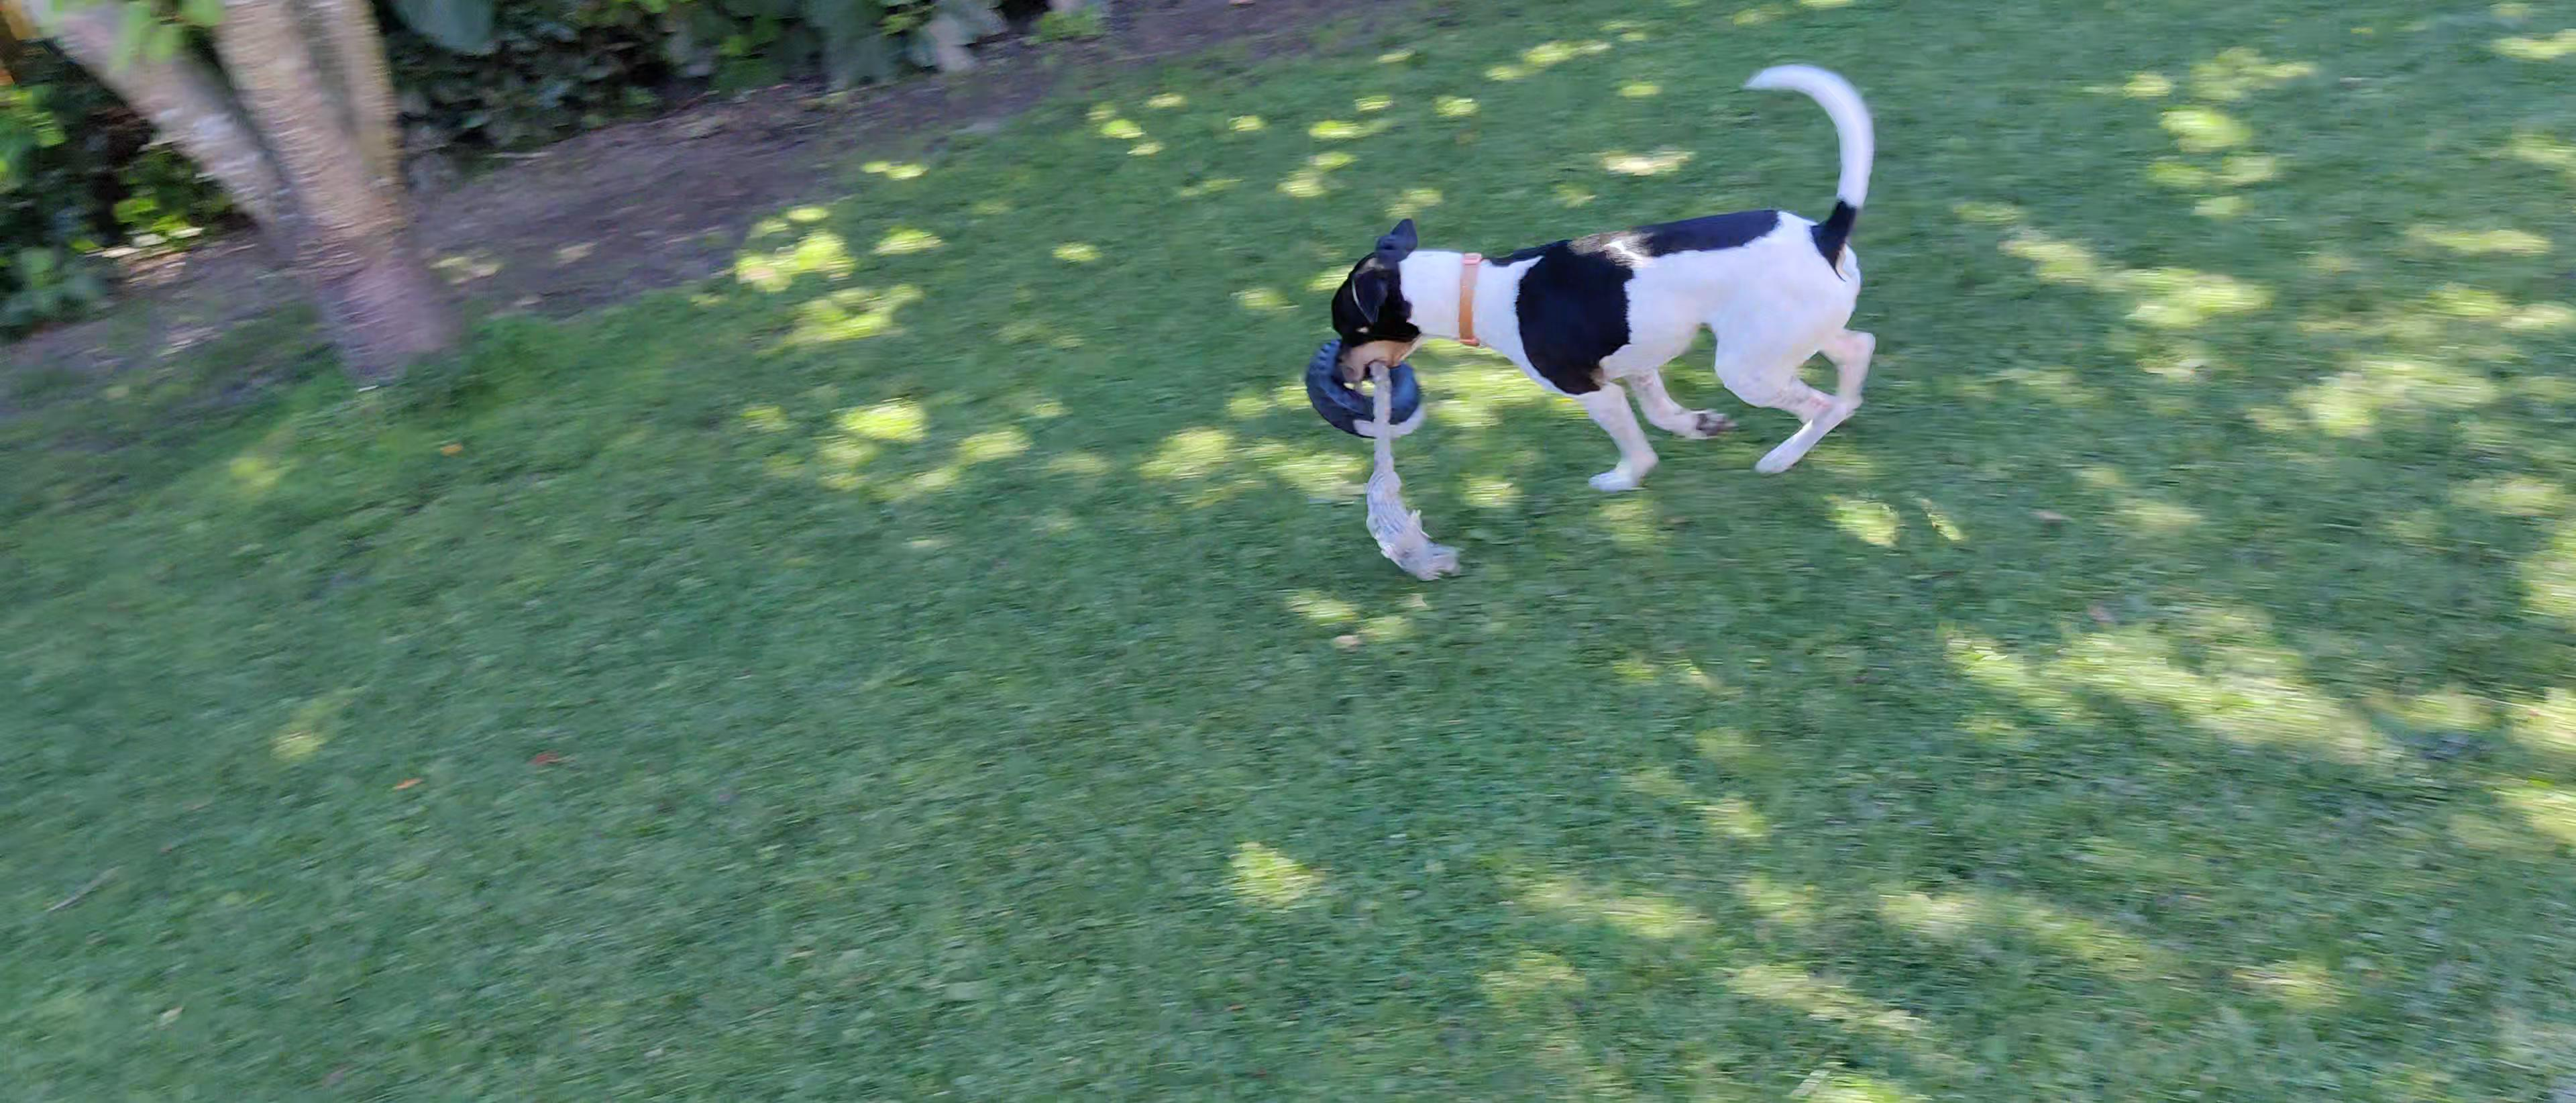Dog: (1321, 54, 1906, 500)
